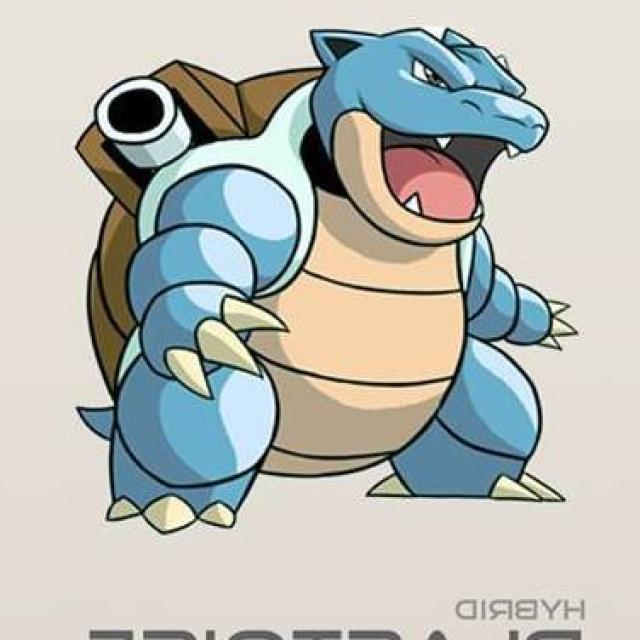Blastoise: (73, 26, 584, 503)
